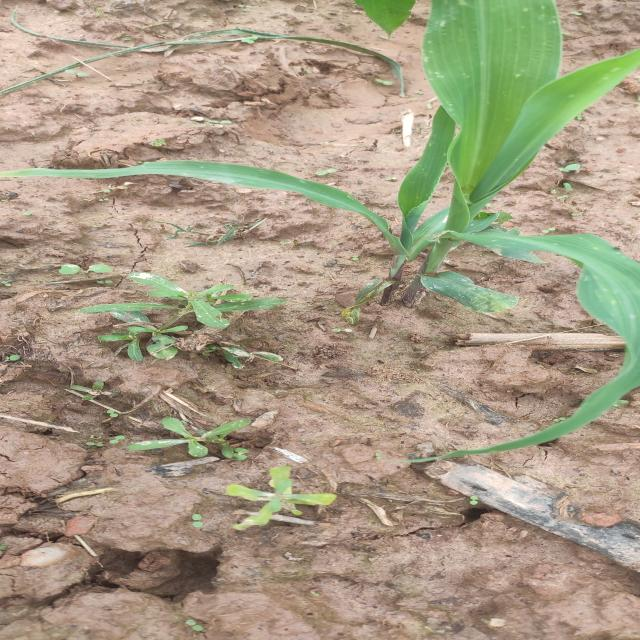maize: (54, 0, 640, 312)
weed: (47, 264, 304, 362), (208, 462, 354, 528), (134, 411, 269, 457), (550, 158, 602, 200), (54, 383, 128, 399), (180, 608, 210, 638), (456, 489, 496, 508), (201, 116, 245, 126), (149, 136, 170, 147)
